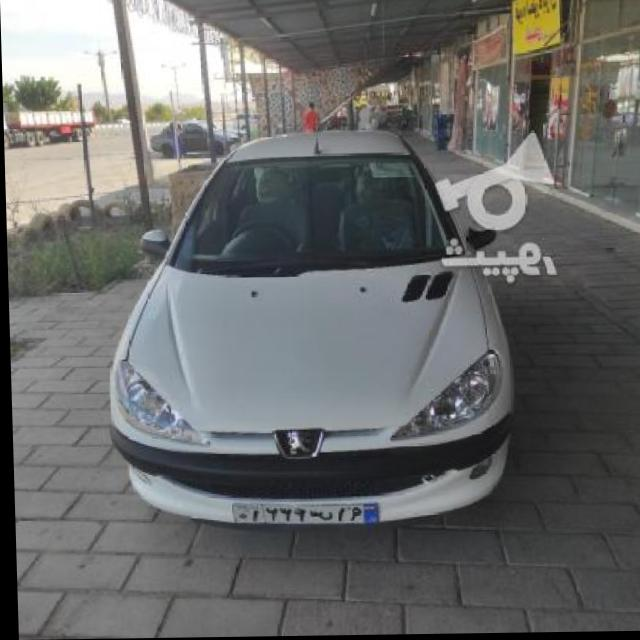licence: (230, 500, 379, 525)
